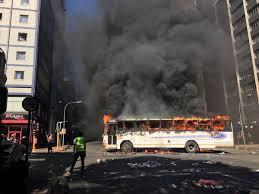fire: (63, 0, 219, 113), (93, 109, 237, 142)
